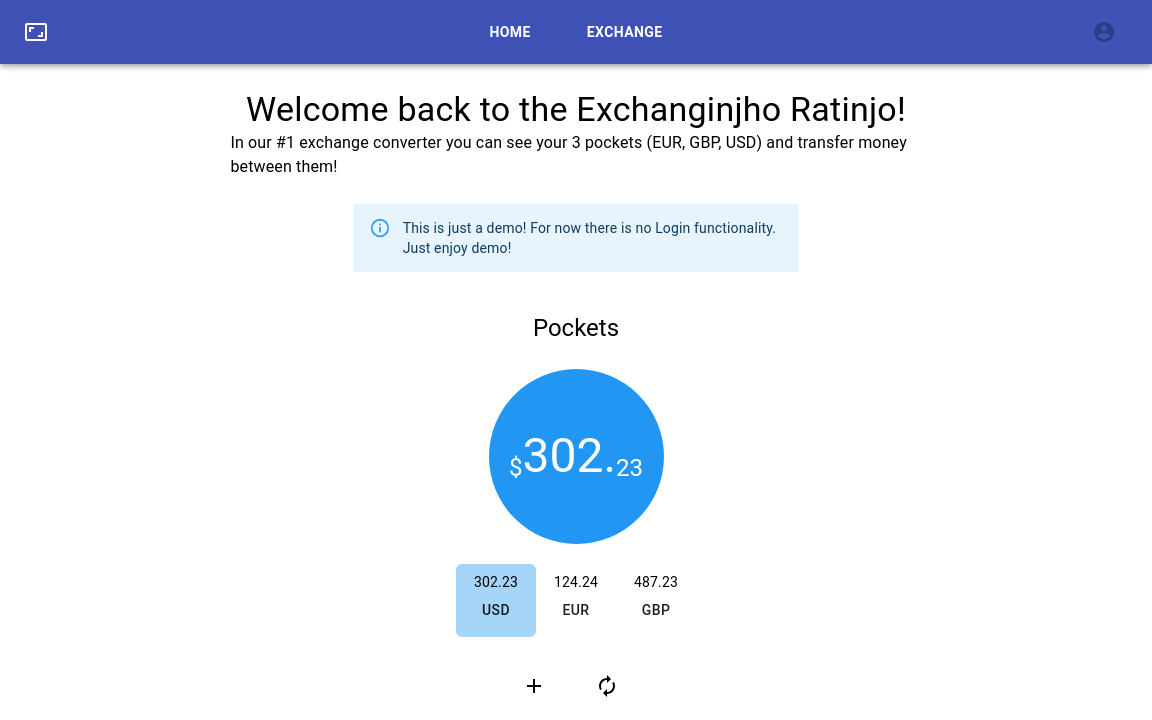
Test: <Home /> › after clicking on another pocket should update current pocket
Click the button with test id "pocket-switcher" showing "GBP" at (656,611), box [624,592,688,629]
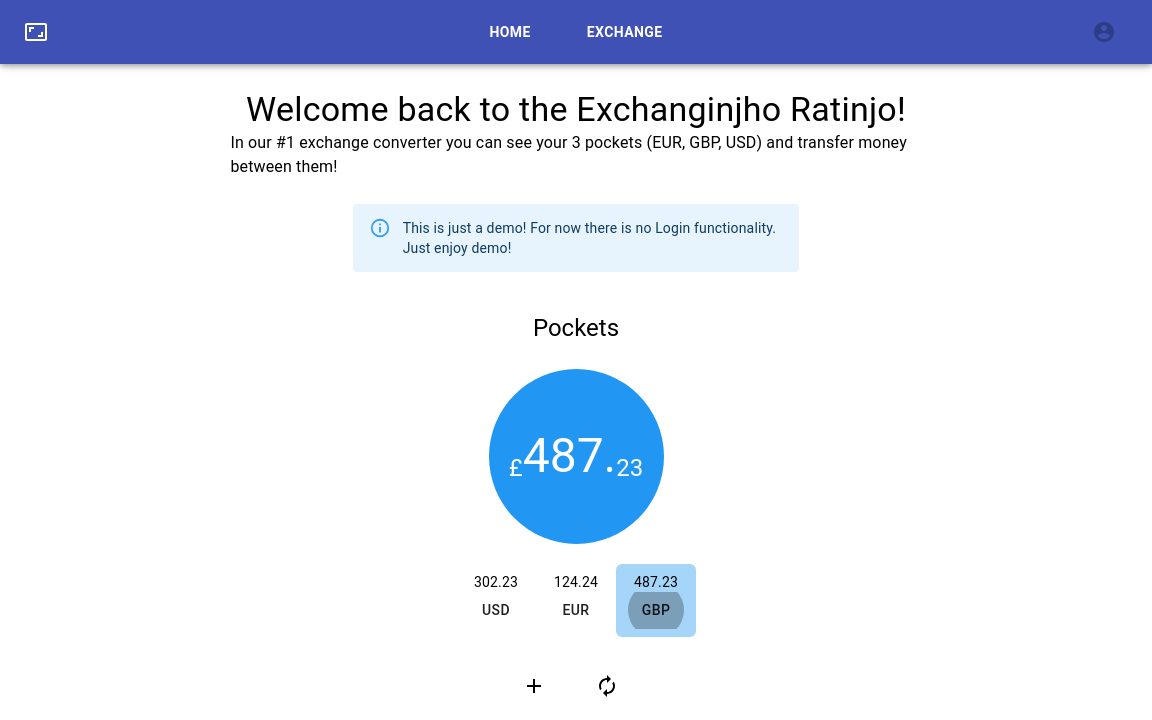
Expected: the heading with test id "pocket-cents" reads "23", [616,452,643,484]
Expected: the heading with test id "pocket-sign" reads "£", [509,452,523,484]
Expected: the heading with test id "pocket-amount" reads "487.", [523,428,617,484]
Click the button with test id "pocket-switcher" showing "EUR" at (576,611), box [544,592,608,629]
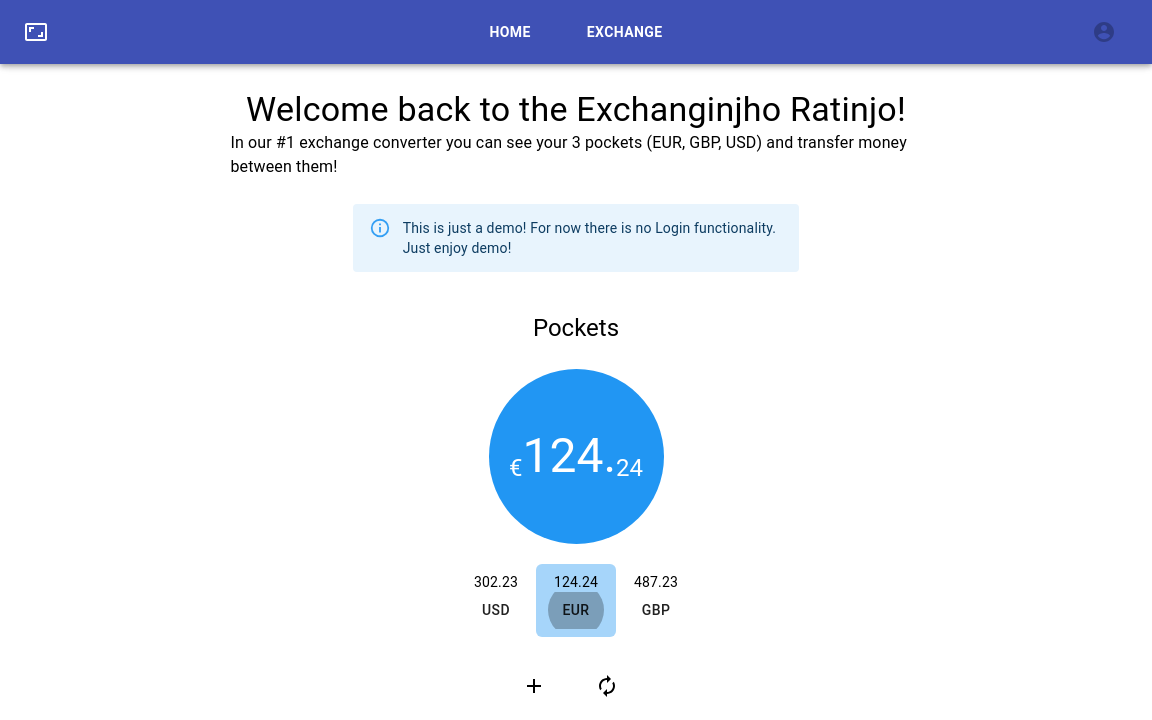
Expected: the heading with test id "pocket-sign" reads "€", [509,452,523,484]
Expected: the heading with test id "pocket-amount" reads "124.", [523,428,617,484]
Expected: the heading with test id "pocket-cents" reads "24", [616,452,643,484]
